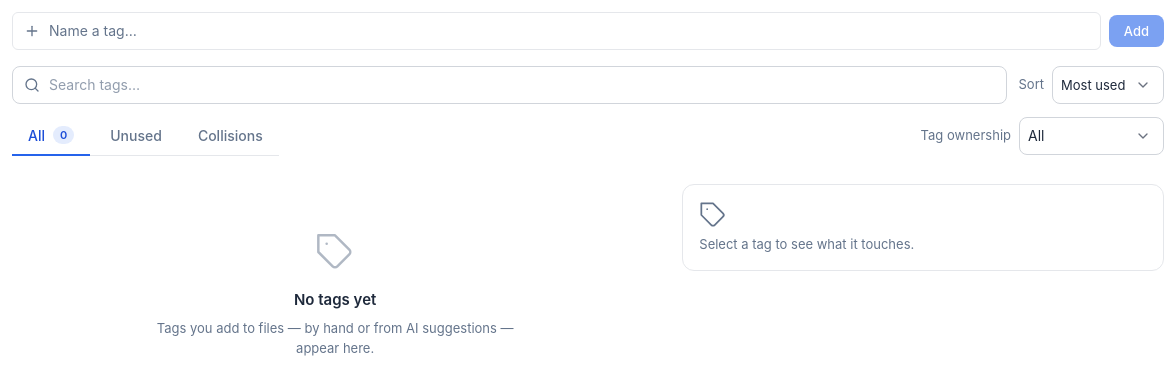
it: tag manager modal › empty states › renders a distinct empty state per filter
The width and height of the screenshot is (1176, 373).
Expected: the heading "No tags yet" is shown, [294,290,376,310]
Click the tab "Unused" at (136, 136), box [94,116,178,156]
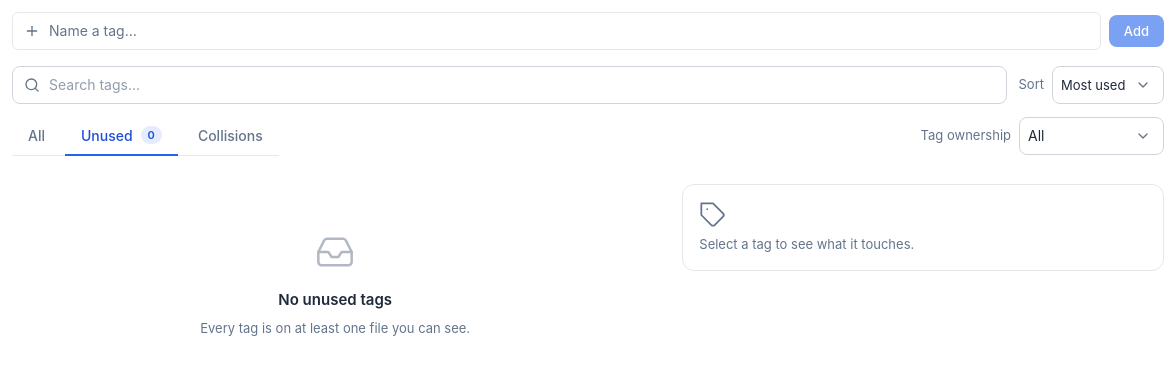
Expected: the heading "No unused tags" is shown, [278,290,392,310]
Click the tab "Collisions" at (230, 136), box [182,116,279,156]
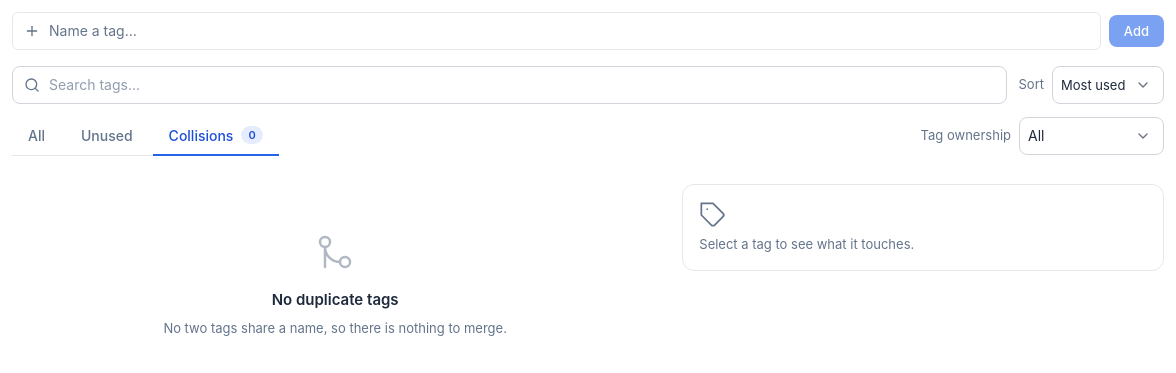
Expected: the heading "No duplicate tags" is shown, [272,290,399,310]
